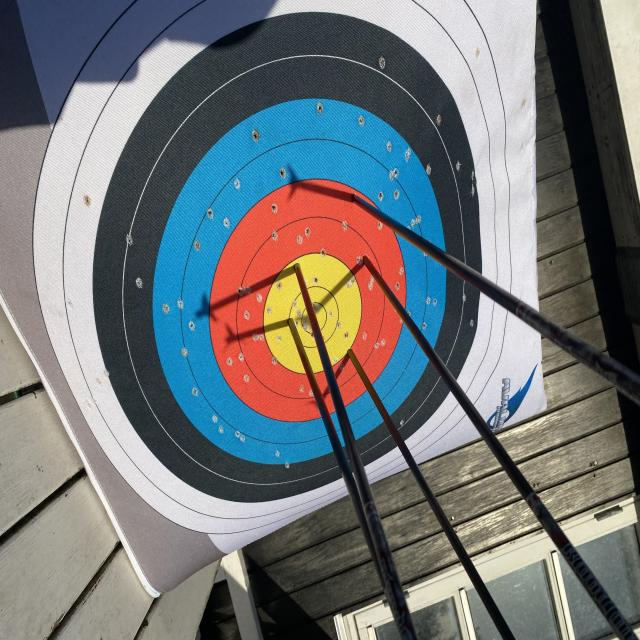Arrow_Red: (340, 179, 386, 232), (347, 240, 390, 291), (335, 330, 375, 375)
Arrow_Yellow: (268, 301, 306, 350), (280, 248, 319, 293)
